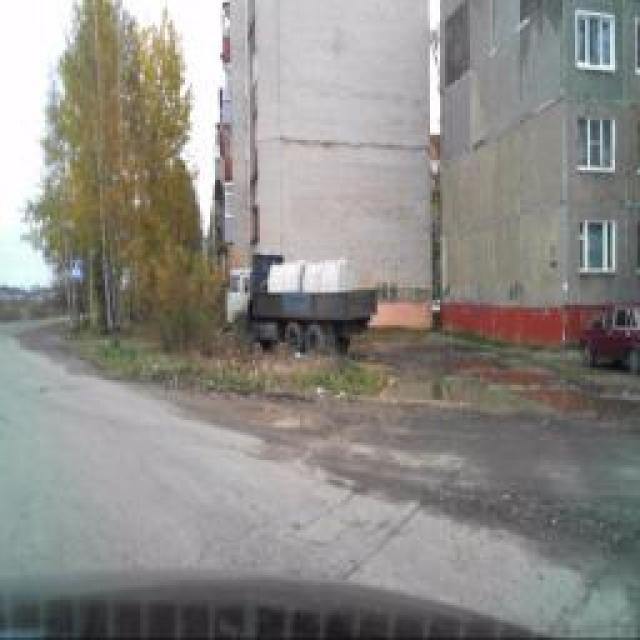sign: (70, 256, 85, 284)
